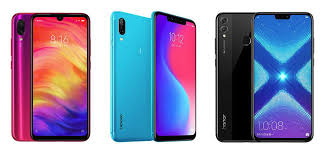lenovo: (212, 10, 316, 143), (12, 9, 93, 142), (150, 11, 199, 144)
